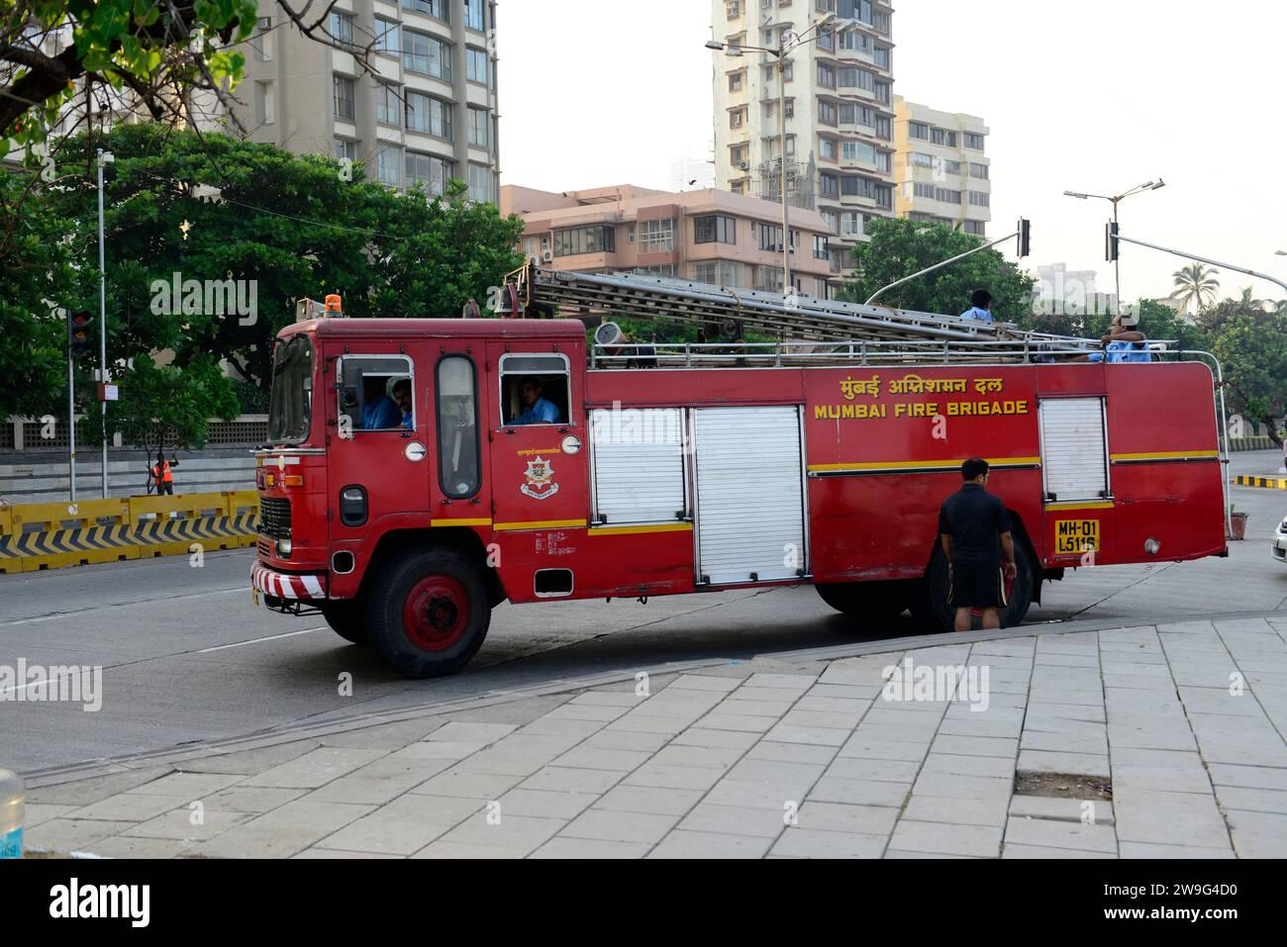Fire-engine: (246, 310, 1251, 636)
